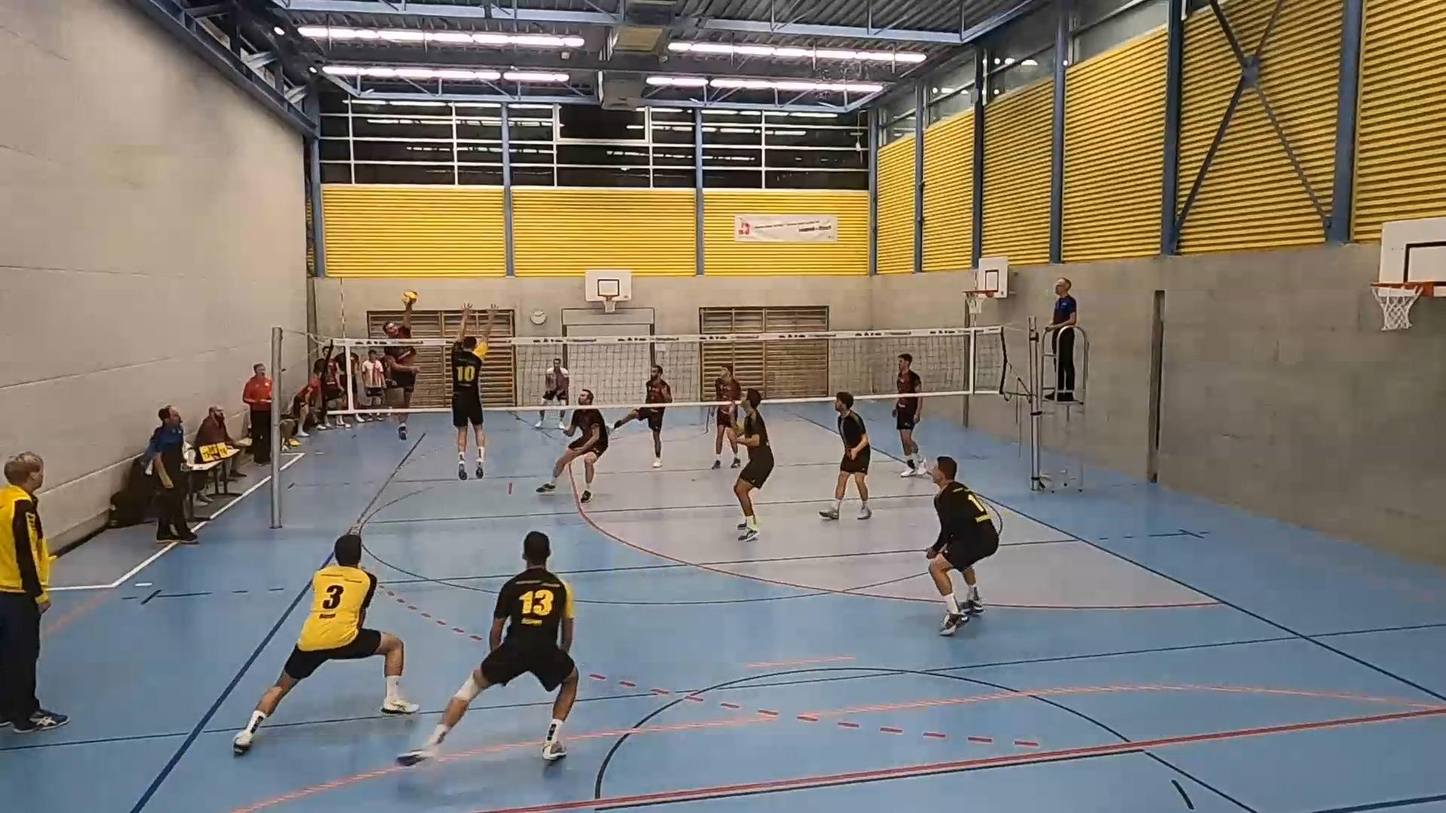Attack: (369, 289, 428, 445)
Block: (448, 312, 505, 478)
Player: (397, 531, 578, 765), (233, 530, 417, 754), (926, 456, 999, 635), (537, 389, 608, 503), (819, 392, 871, 519), (734, 389, 773, 540), (894, 352, 927, 477), (712, 364, 742, 469), (613, 406, 664, 467), (543, 358, 569, 430)
ball: (402, 293, 420, 304)
